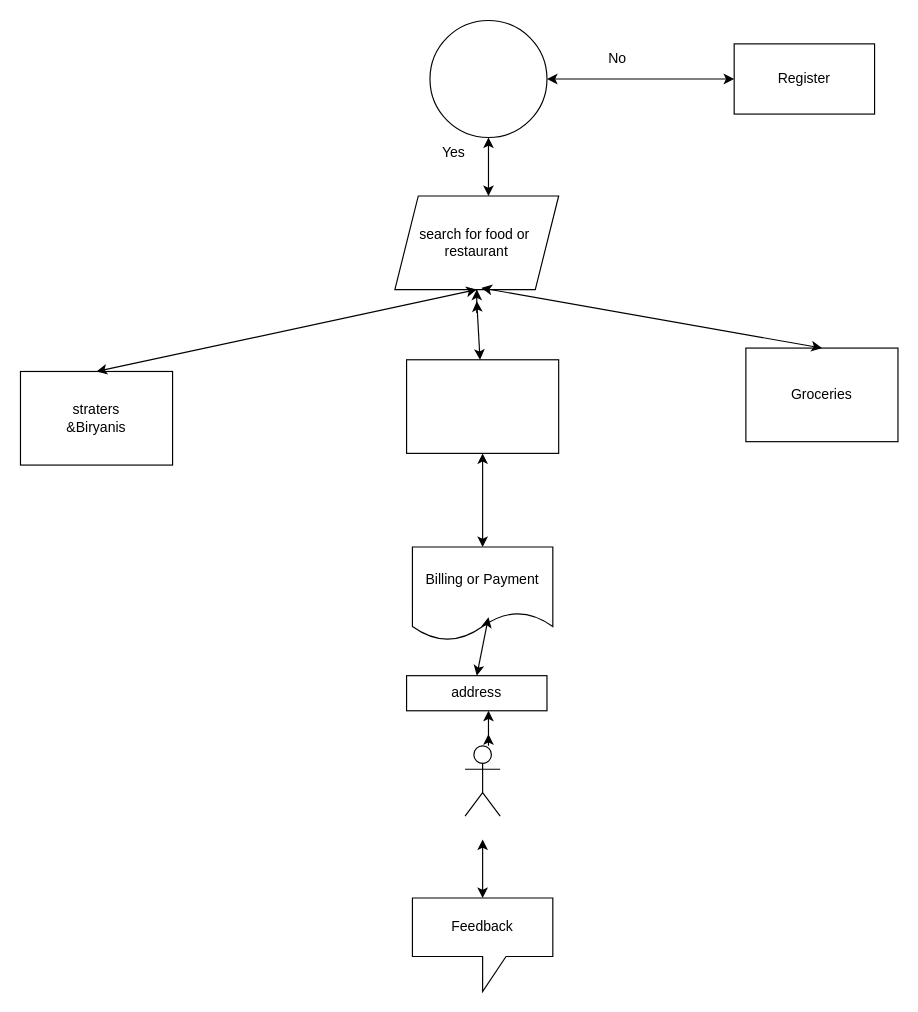
The diagram is 918 pixels wide and 1012 high, and some of its shapes have lost their labels. The centre of each missing label's shape, as x and y in pixels:
Actor: (482,780)
Login: (488,78)
restaurant name: (482,406)
